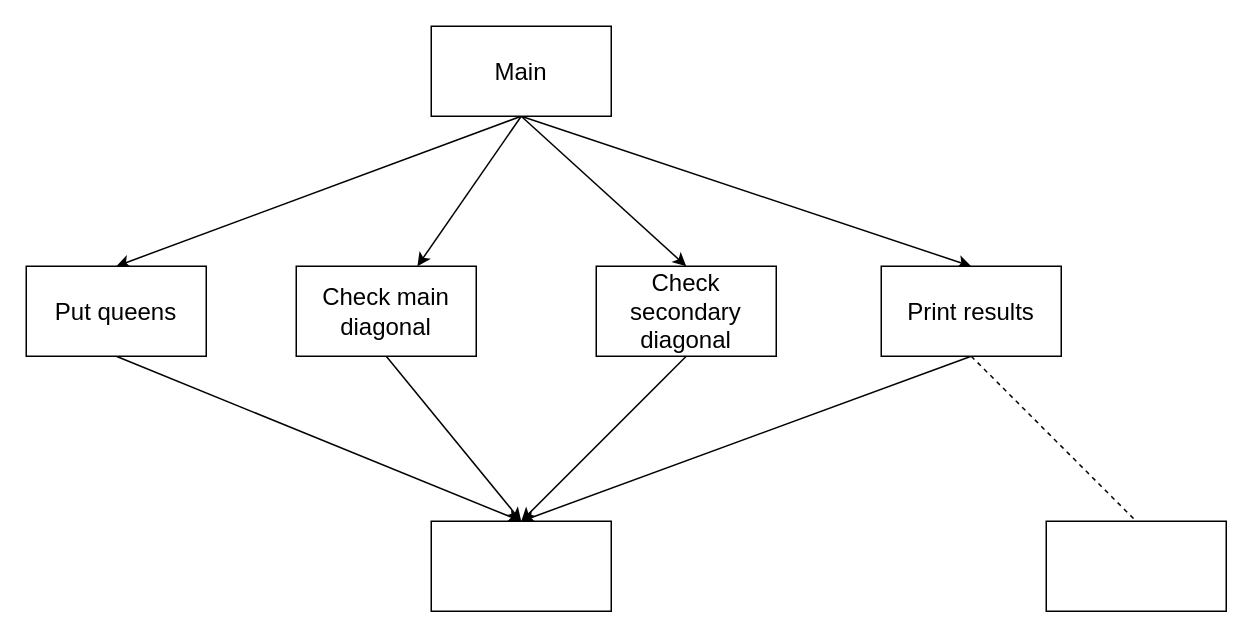
This 1253x638 diagram has some shape labels left out. The box of each missing label's shape, as (x1, y1, x2, y2) in pixels:
chessboards list: (430, 520, 611, 611)
Output file: (1045, 520, 1226, 611)
